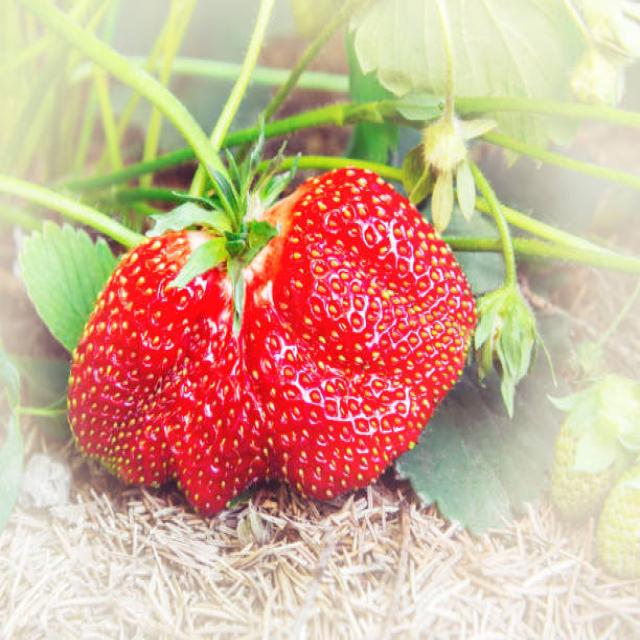Healthy Fruit: (67, 166, 477, 514)
